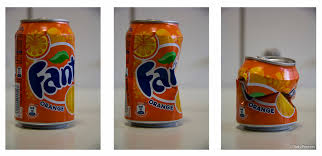fanta: (127, 21, 183, 127), (17, 20, 74, 124), (238, 59, 296, 126)
